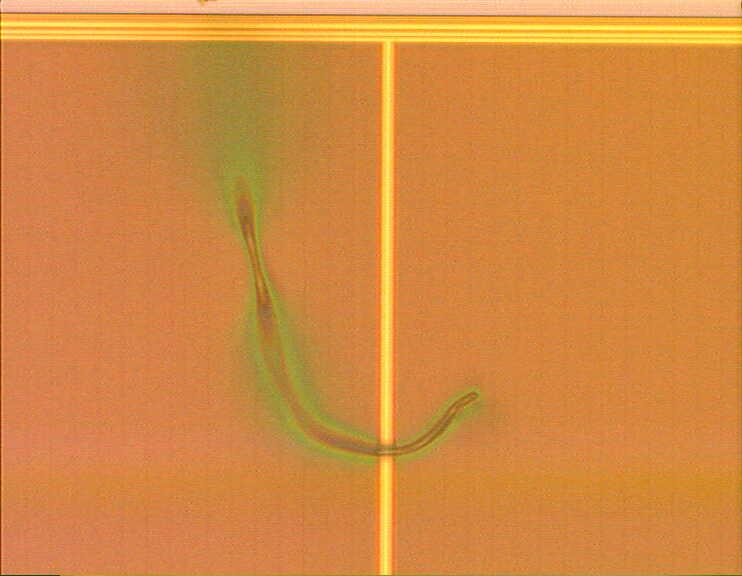PIQ PARTICLE: (224, 141, 486, 466)
